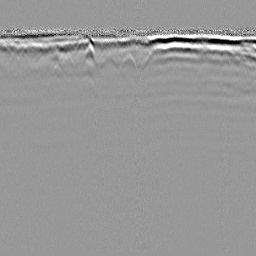cavity: (119, 52, 137, 71)
